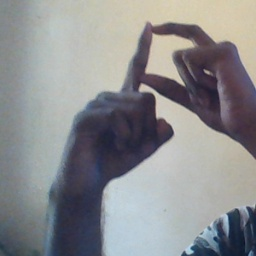D: (104, 18, 231, 132)
